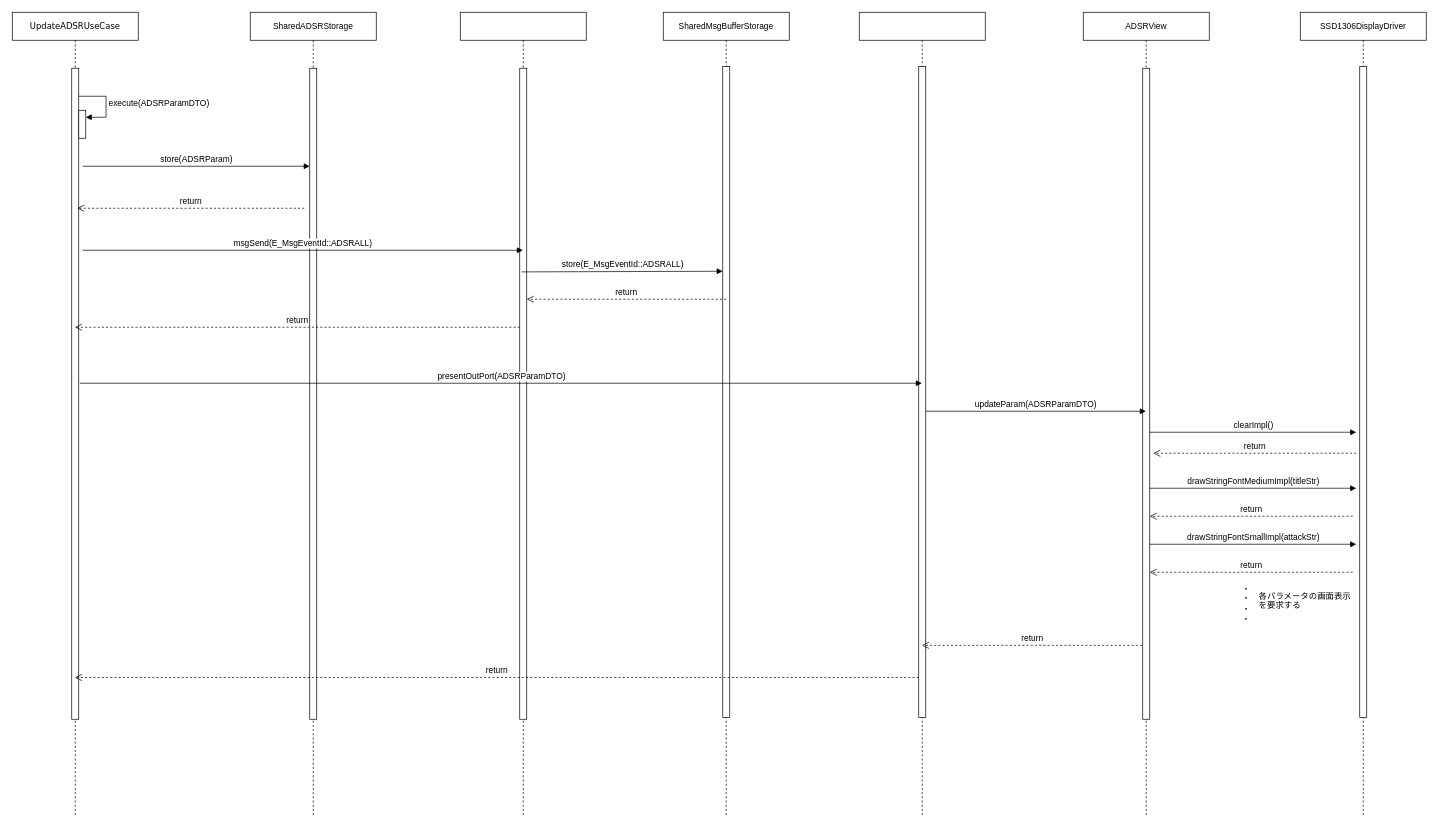
Image size: 1439x830. Some labels were removed from this diagram. The box of each missing label's shape, as (x1, y1, x2, y2) in pixels:
ADSRPresenter: (859, 12, 985, 817)
MsgEventSender: (460, 12, 586, 817)
